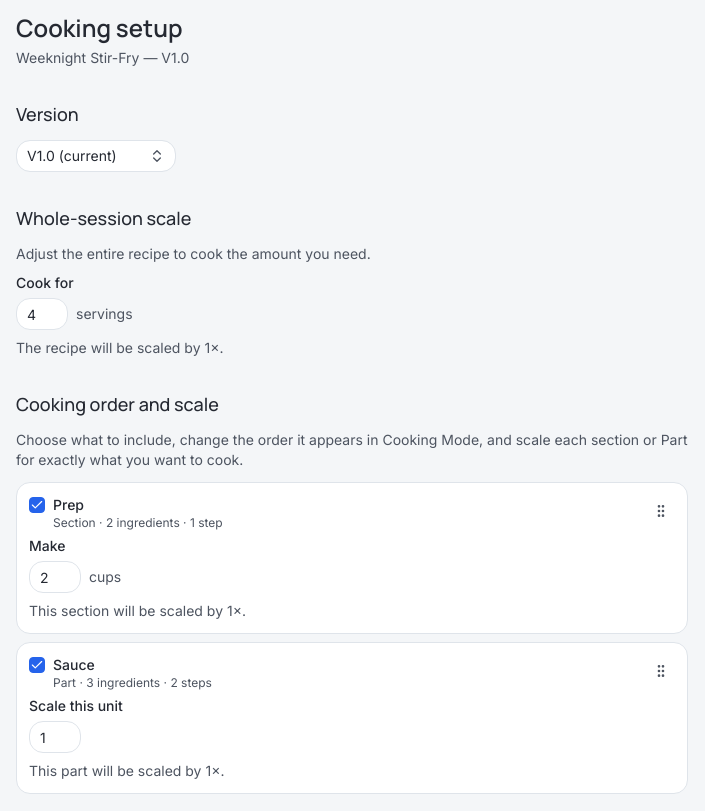
Test case: CookingSetup — Cooking order and scale › hides the excluded unit's scale control but keeps it for included units
Expected: the field labelled "Make" is shown, [29,561,81,593]
Click the checkbox named "Include Prep in this cooking session" at (37, 505), box [29,497,45,513]
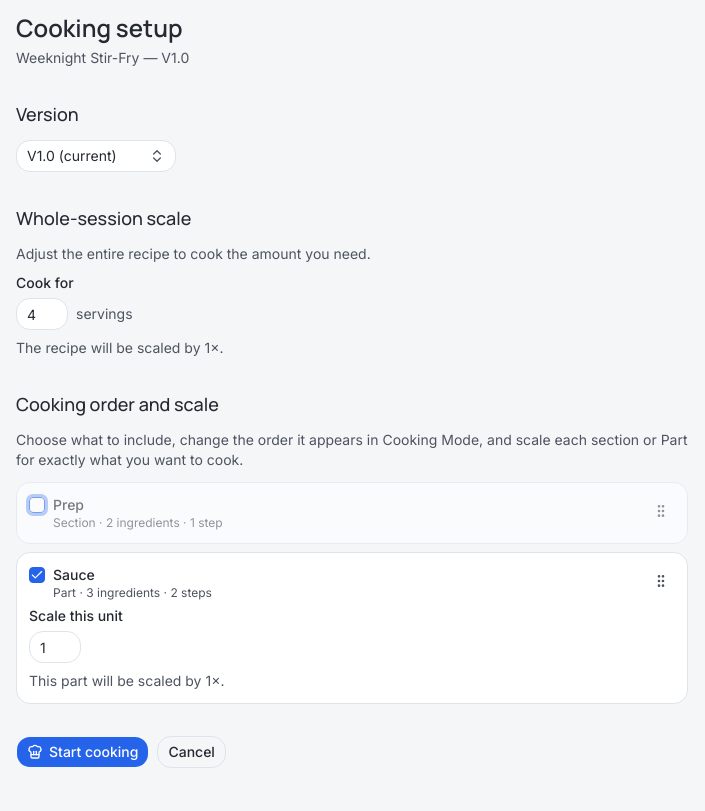
Expected: the label labelled "Make" is gone
